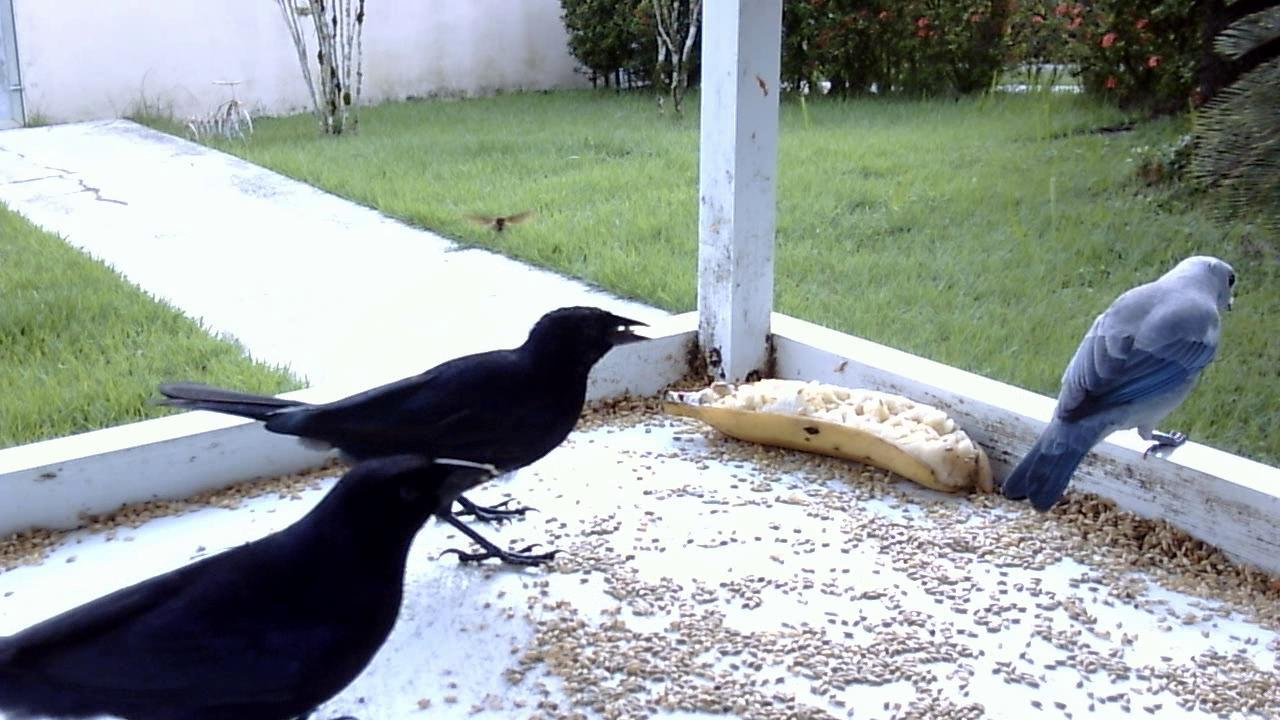chupim: (141, 275, 665, 578), (7, 426, 494, 708)
sanhaco_da_amazonia: (991, 258, 1248, 513)
